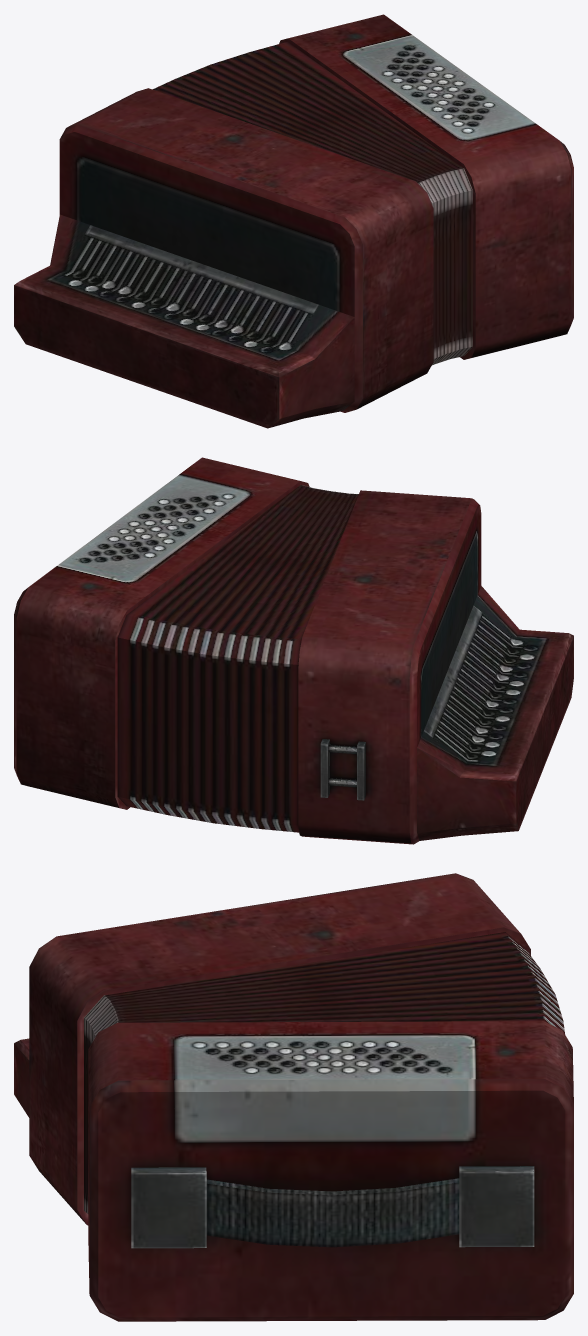
The model's file is accordion.glb.
3 views of the same model, one above another, from view 1: azimuth 30°, elevation 25°; view 2: azimuth 150°, elevation 25°; view 3: azimuth 270°, elevation 25° (orthographic). The views are drawn at different scales.
Visible parts, largest first — view 1: accordion; view 2: accordion; view 3: accordion.
Boxes of the visible parts, x1=… form: accordion: x1=14, y1=14, x2=573, y2=428; accordion: x1=14, y1=457, x2=573, y2=844; accordion: x1=14, y1=873, x2=573, y2=1321.
Size of the model in its own units: 0.5 by 0.2032 by 0.4276.
1 material, 1 textured.
